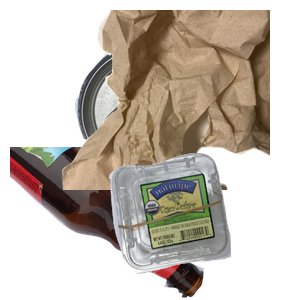glass: (10, 147, 207, 300)
metal: (73, 42, 277, 212)
plastic: (106, 151, 300, 300)
trash: (60, 10, 300, 190)
